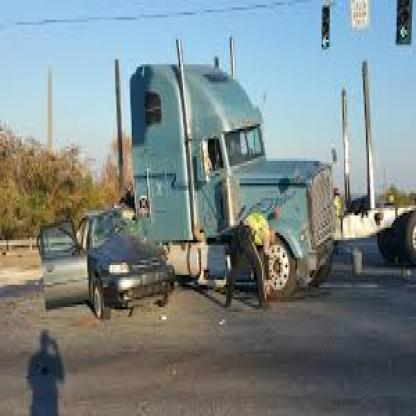accident: (28, 101, 193, 341)
